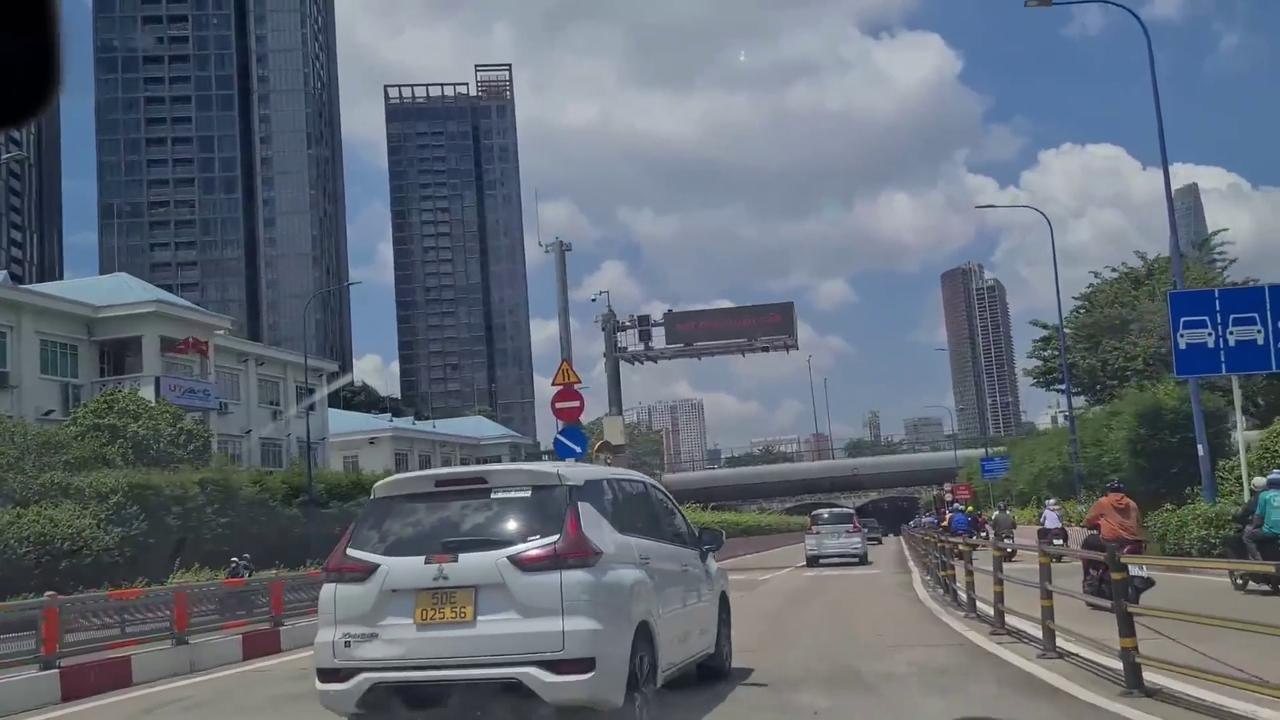Cấm đi ngược chiều: (551, 387, 586, 423)
Hướng phải đi vòng sang phải: (552, 424, 589, 461)
Đuờng hẹp: (551, 357, 584, 386)
